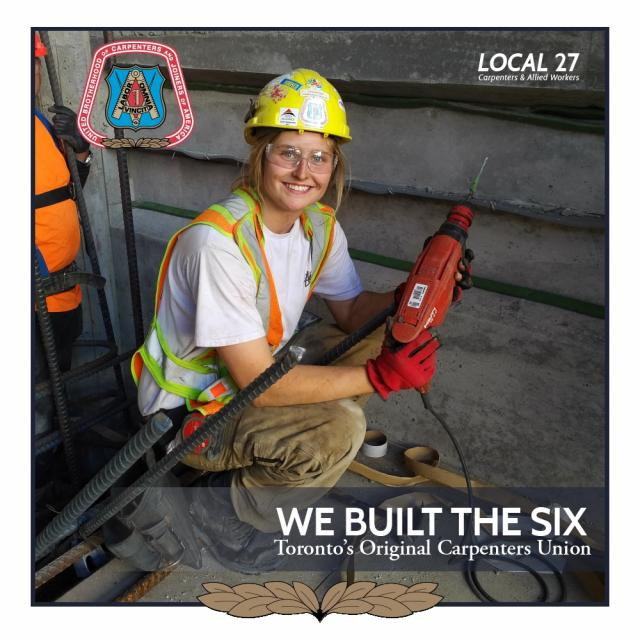Reflective-Jacket: (130, 191, 336, 408)
Safety-Helmet: (240, 65, 355, 145)
